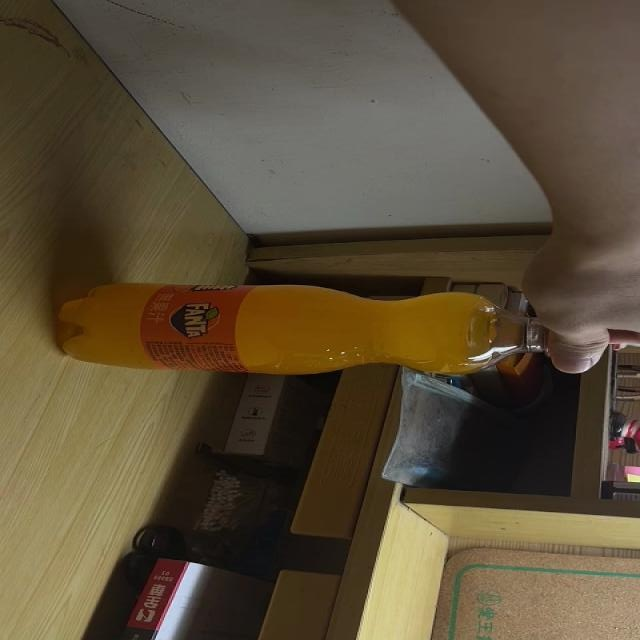Fanta: (59, 283, 594, 376)
